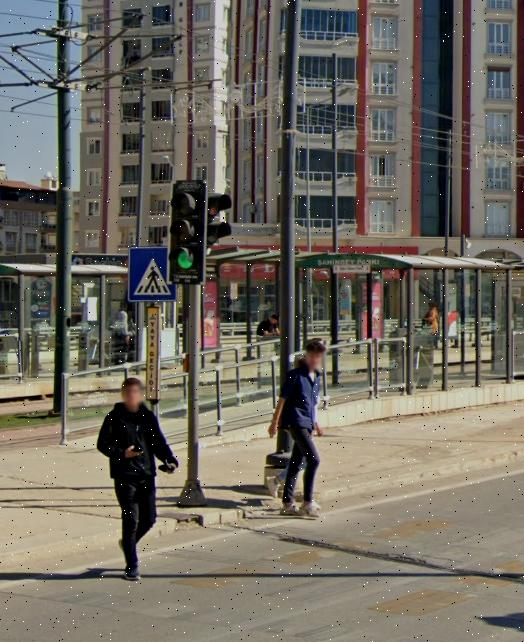greenlight: (174, 185, 196, 272)
